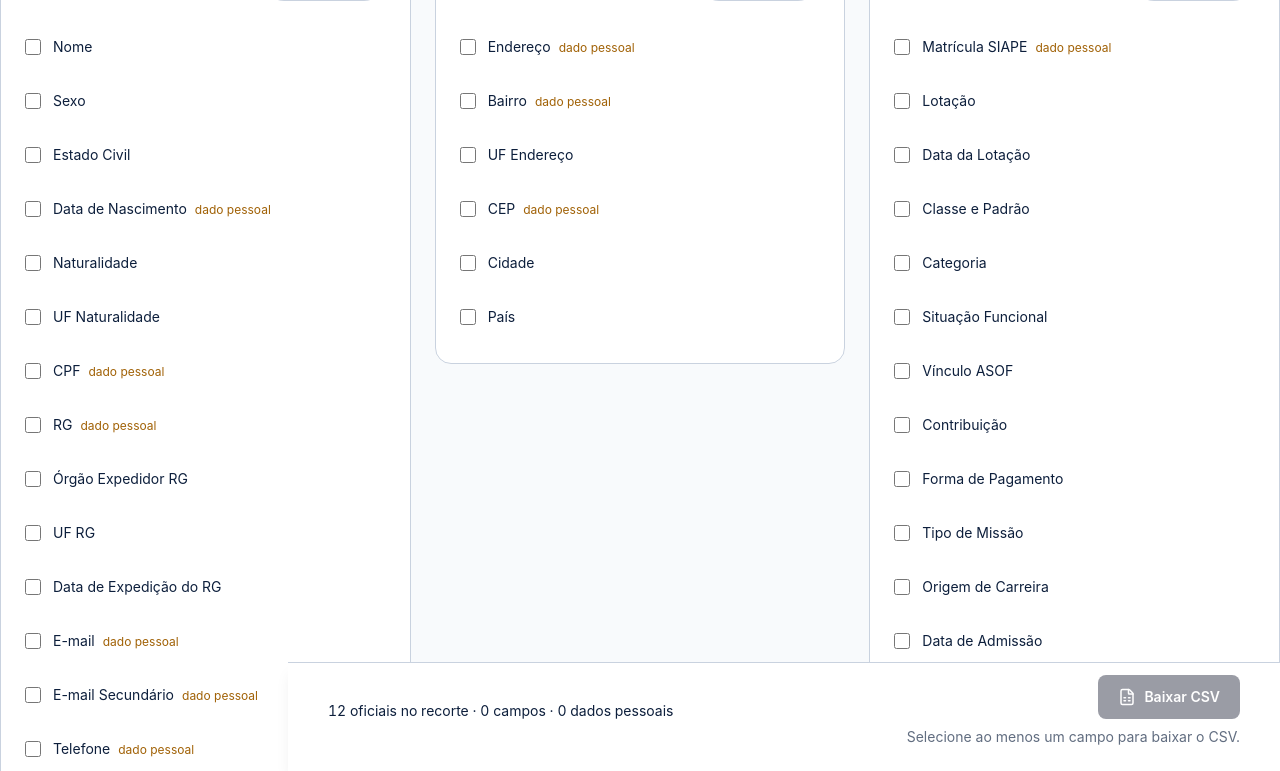
Scenario: RelatorioForm › keeps the manifesto live region in sync with fields, PII and recorte
(page scrolled)
Expected: the element showing "12 oficiais no recorte · 0 campos · 0 dados pessoais" is shown, [328,701,674,721]
What coordinates should you click on to do the following:
click the checkbox labelled "CPF dado pessoal"
I would click on:
 (33, 371)
Its box is [25,363,41,379].
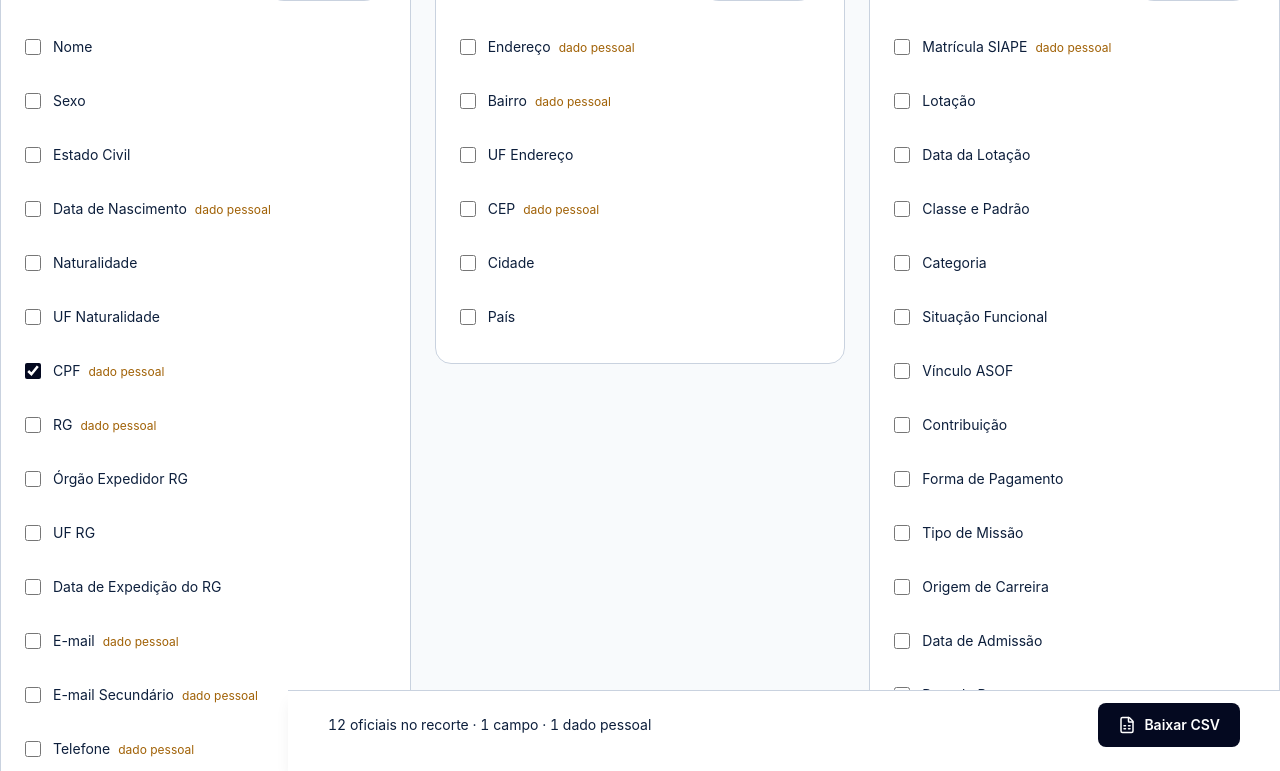
What coordinates should you click on to do the following:
click the checkbox labelled "UF RG"
I would click on:
 (33, 533)
Its box is [25,525,41,541].
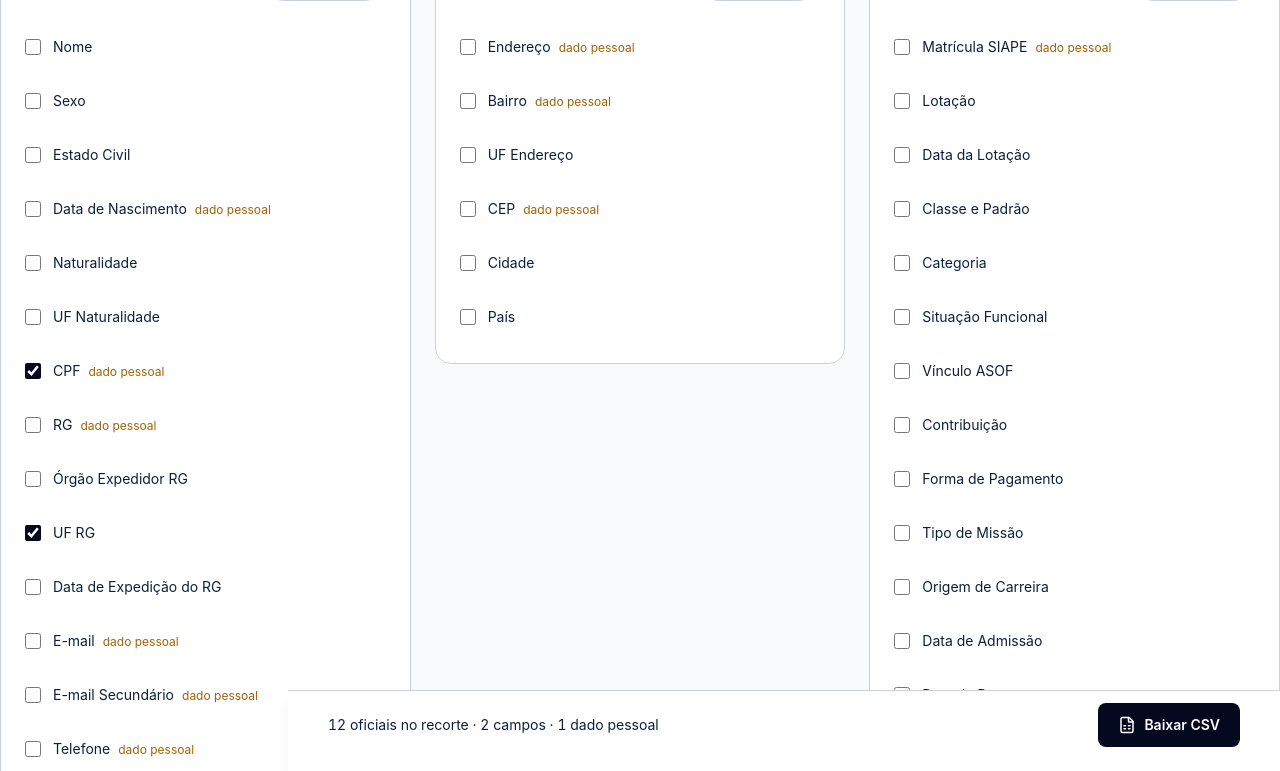
Expected: the button "Baixar CSV" is enabled, [1098,703,1240,747]
Expected: the element showing "12 oficiais no recorte · 2 campos · 1 dado pessoal" is shown, [328,715,659,735]
